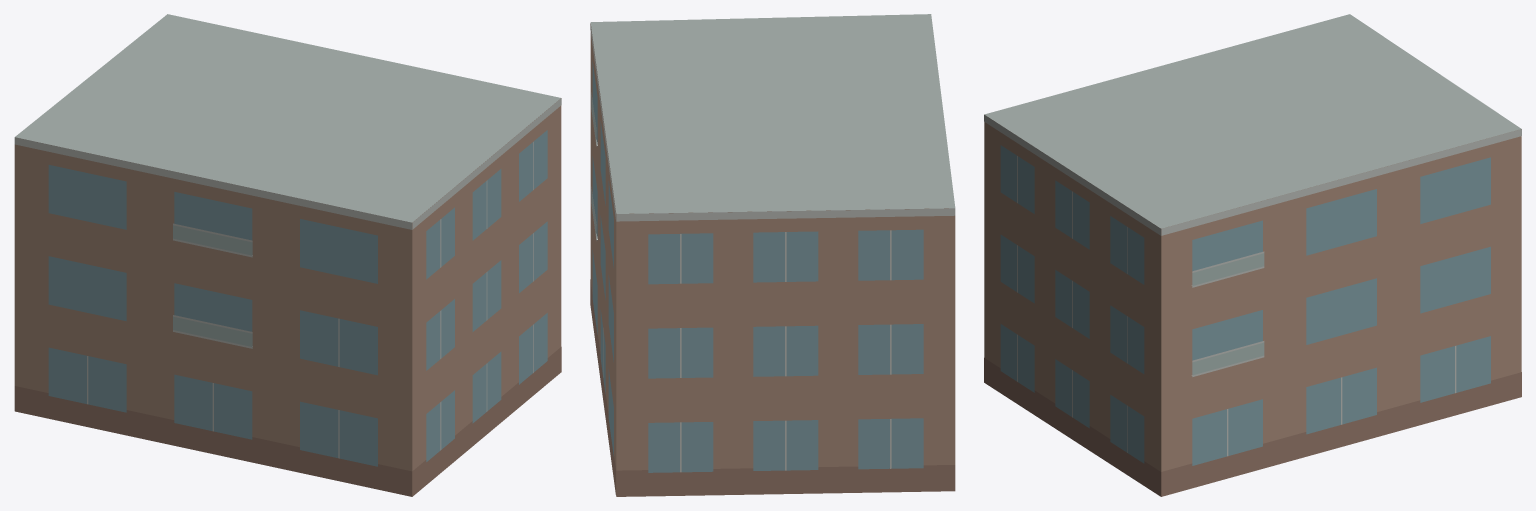
The model's file is survey-upis-32590304.glb.
3 renders of one model, left to right at view 1: azimuth 30°, elevation 25°; view 2: azimuth 150°, elevation 25°; view 3: azimuth 270°, elevation 25°, orthographic. The views are drawn at different scales.
Parts seen in each view (by area): view 1: survey-upis-32590304.tmp; view 2: survey-upis-32590304.tmp; view 3: survey-upis-32590304.tmp.
Part boxes in pixels (box(x1,y1,x2,y2)): survey-upis-32590304.tmp: box(14, 14, 561, 496); survey-upis-32590304.tmp: box(590, 14, 955, 496); survey-upis-32590304.tmp: box(984, 14, 1521, 496).
Size of the model in its own units: 15.73 by 9.15 by 16.64.
